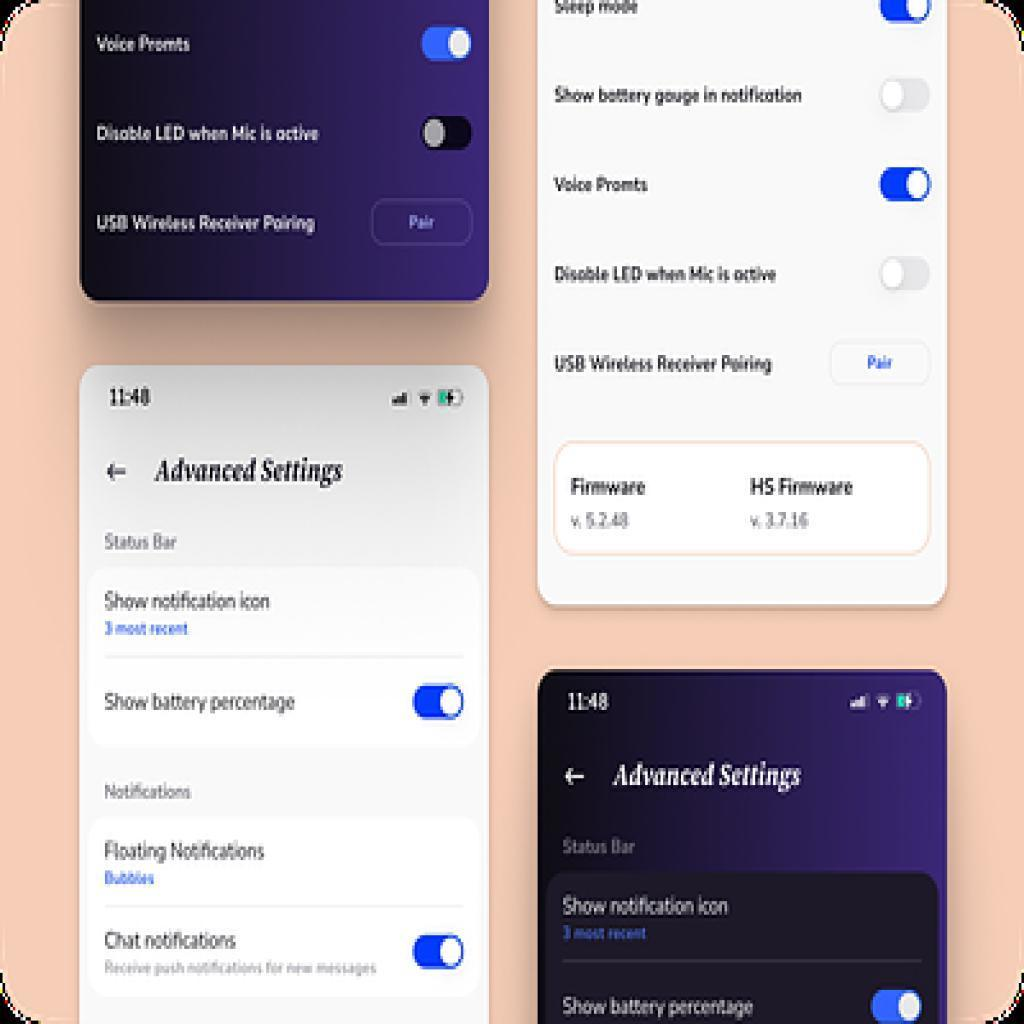button: (831, 341, 933, 388)
switch: (400, 678, 470, 725), (872, 157, 934, 208), (873, 68, 931, 121), (417, 111, 478, 161), (415, 22, 477, 69), (409, 929, 468, 974), (877, 251, 934, 295), (870, 985, 926, 1024)
